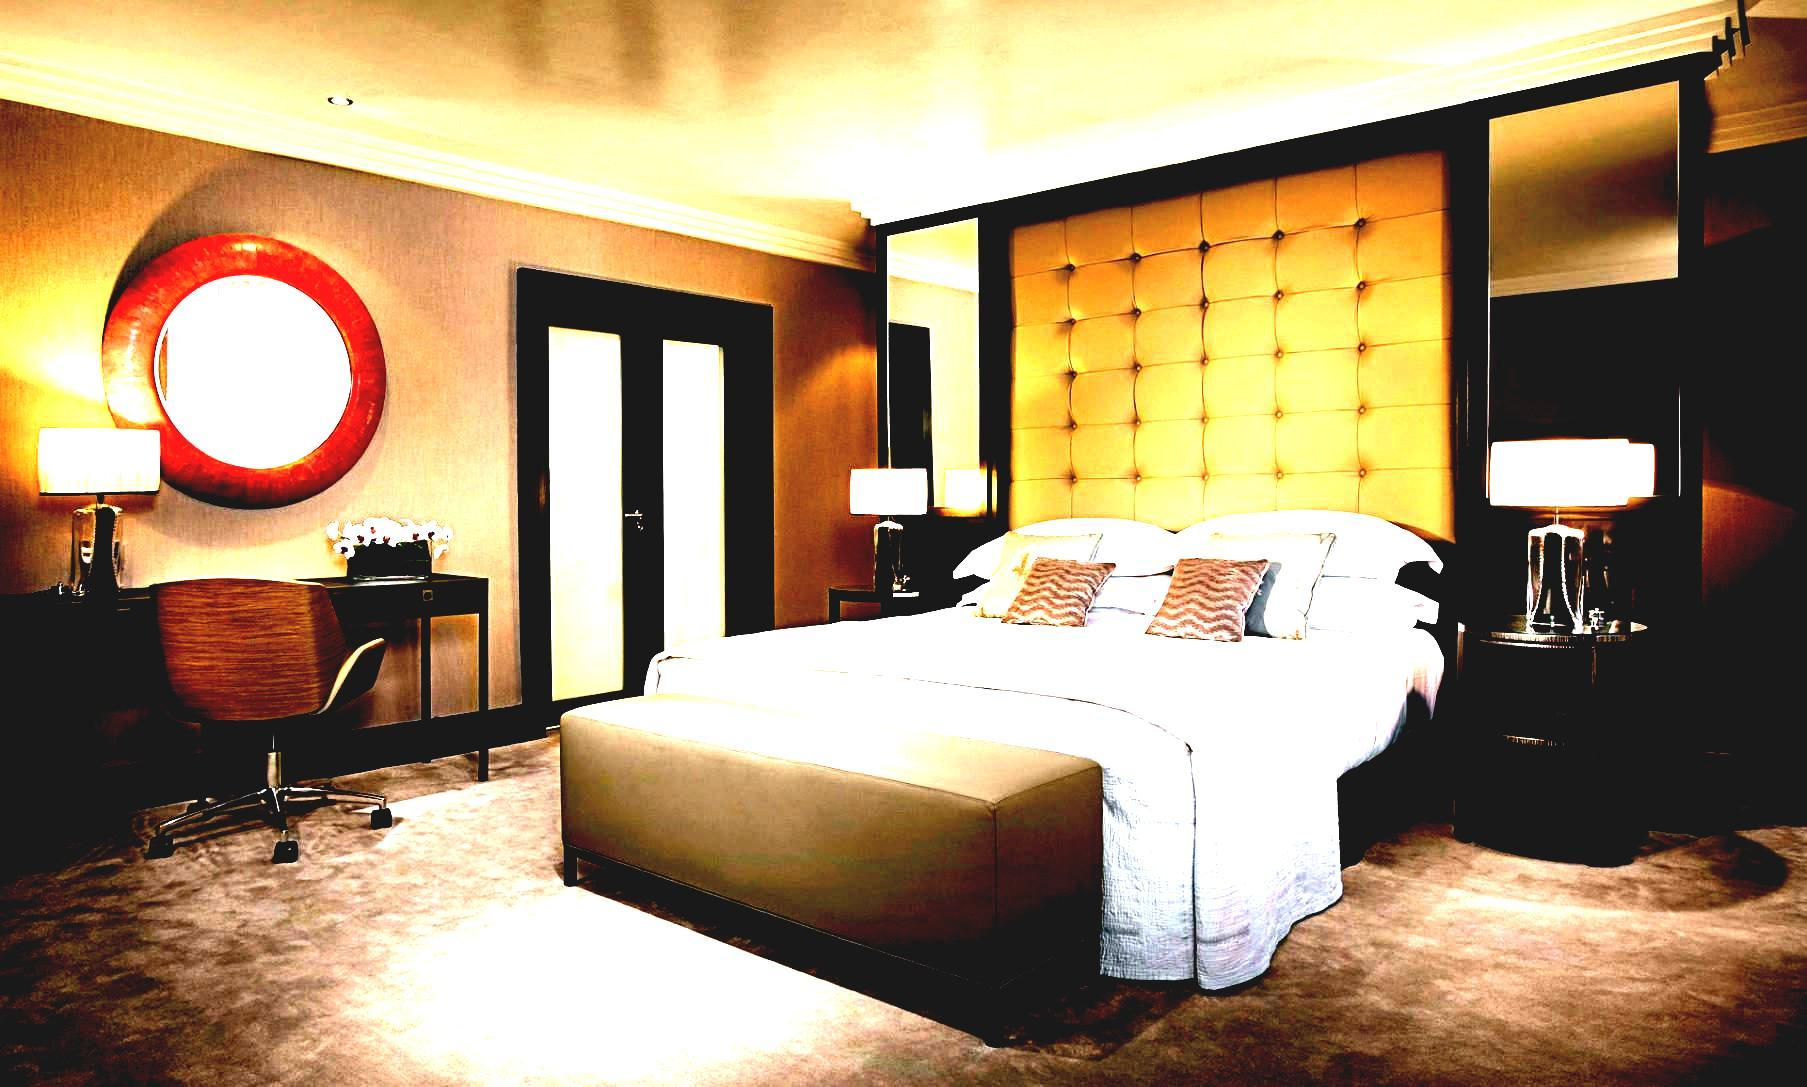bed: (785, 411, 1348, 948)
